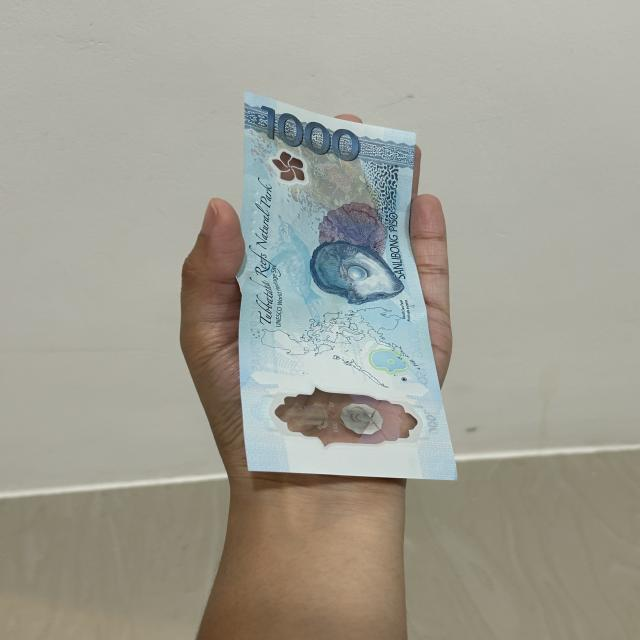clear_window: (258, 382, 428, 449)
sampaguita: (271, 152, 318, 184)
value: (260, 102, 366, 160)
